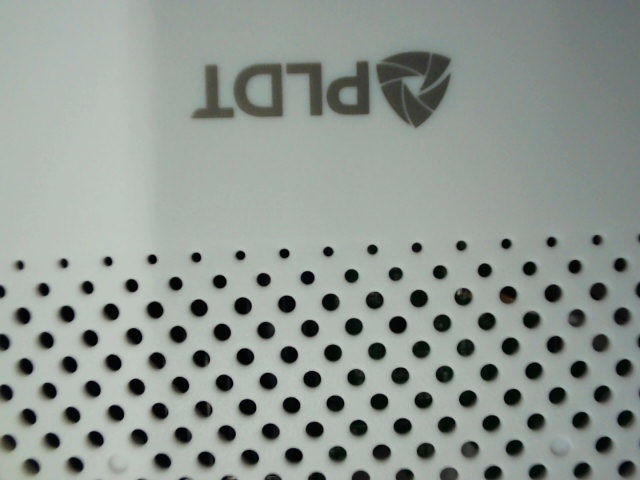BH_PLDT: (180, 28, 469, 144)
